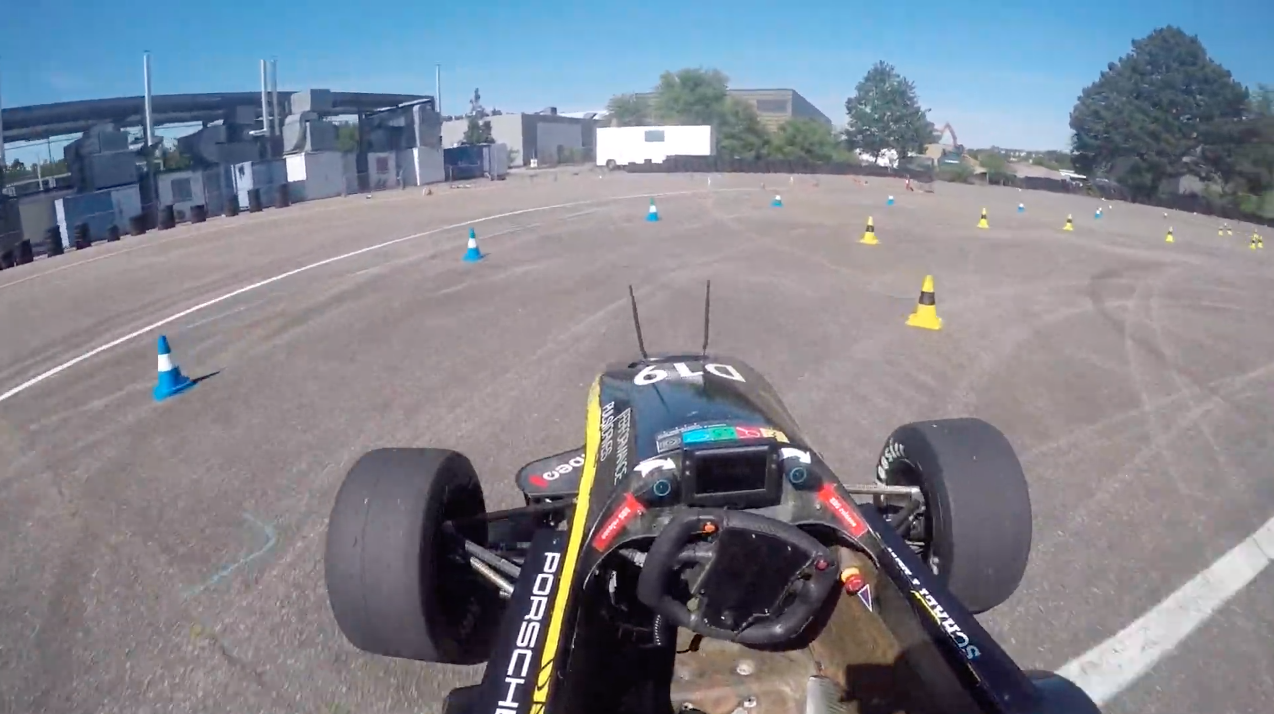lcone: (144, 331, 198, 406), (454, 222, 491, 265), (643, 196, 662, 224)
rcone: (900, 271, 950, 333), (857, 213, 886, 247)
